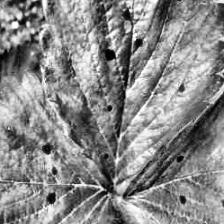Leaf Spot: (38, 0, 224, 192), (0, 69, 118, 224), (116, 83, 224, 224)
